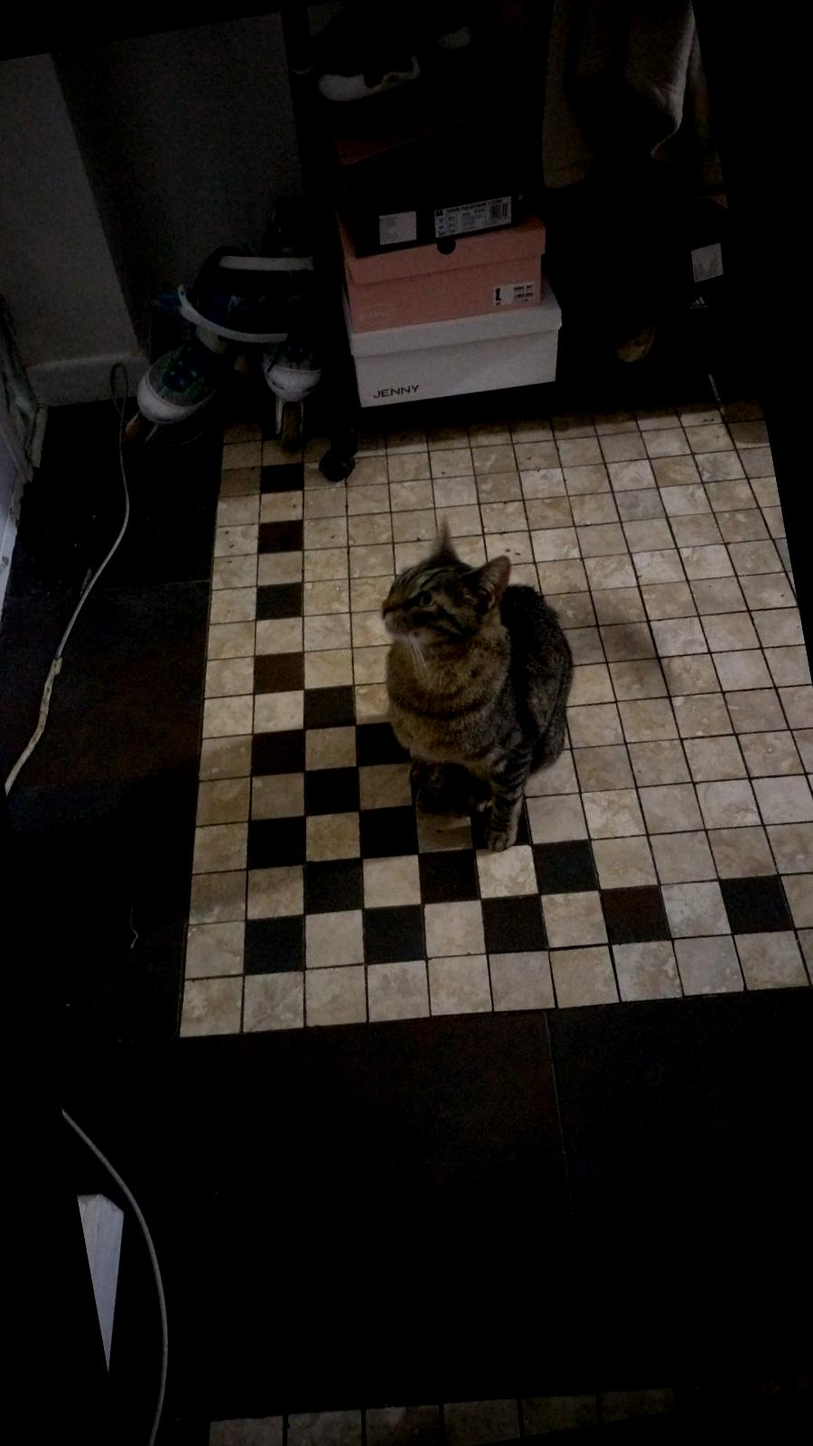macka: (352, 498, 603, 861)
